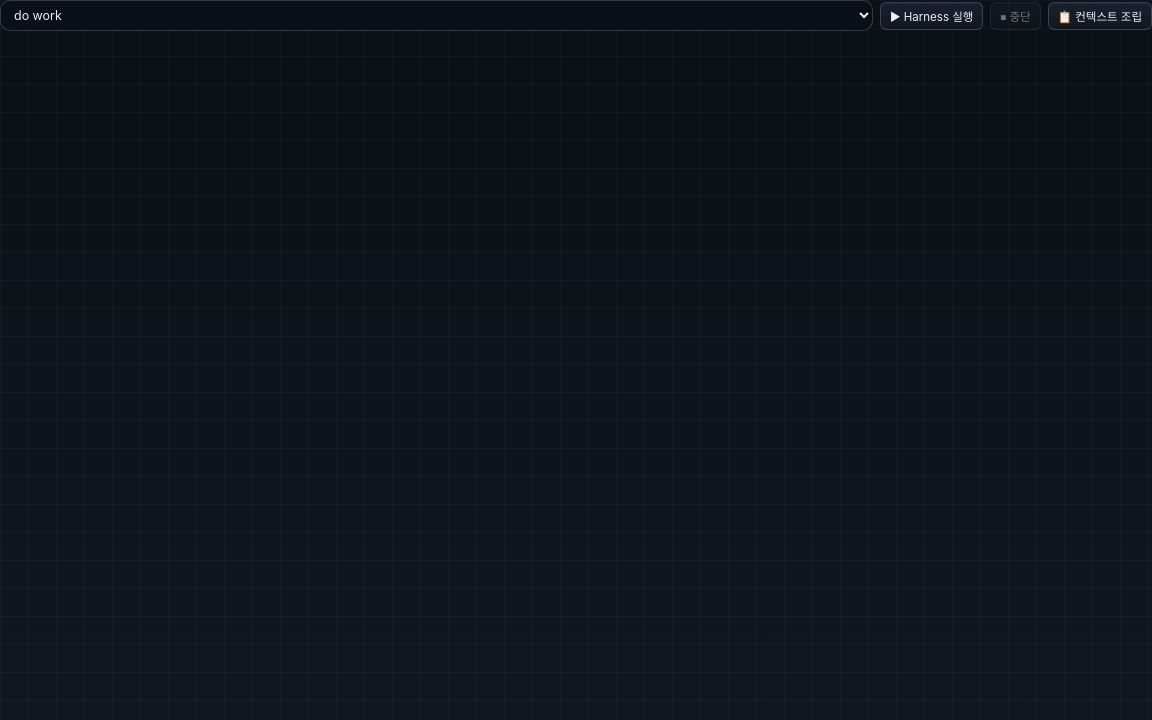
Test: DevHarnessPanel › closes the composer dialog from its accessible close button
The image size is (1152, 720).
Click the button "📋 컨텍스트 조립" at {"x": 1100, "y": 16}, box [1048,2,1151,30]
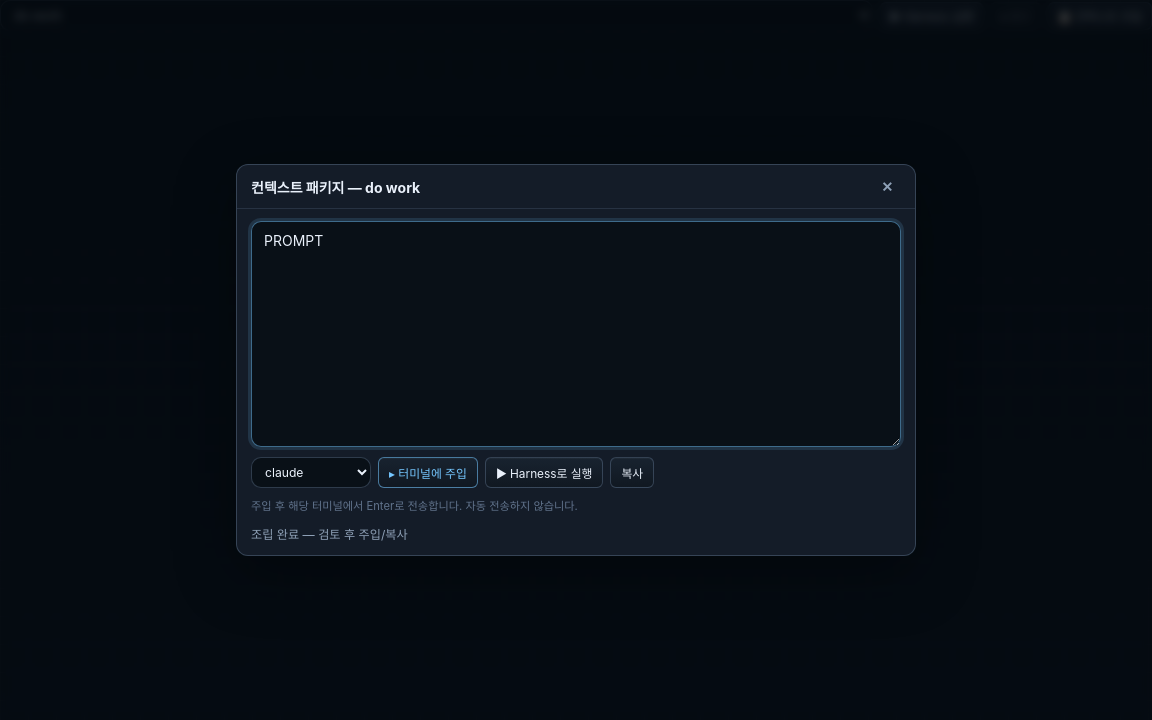
Click the button named "컨텍스트 패키지 닫기" at {"x": 887, "y": 187}, box [873,175,901,198]
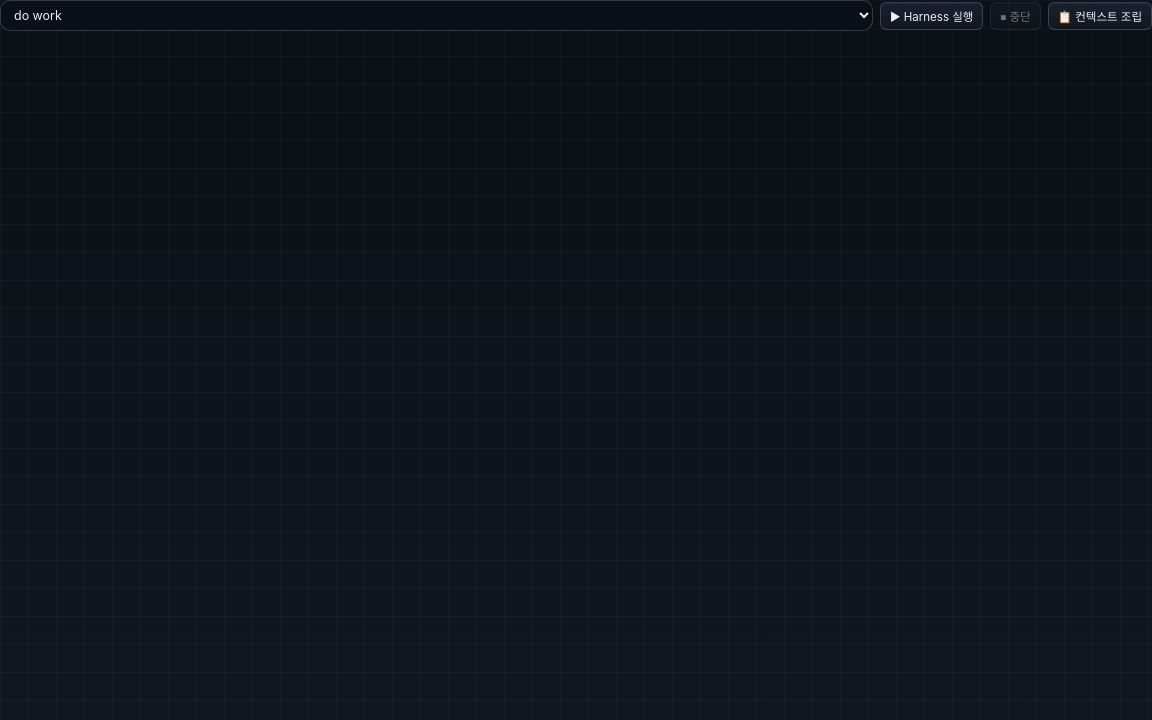
Expected: the text "컨텍스트 패키지" is gone
